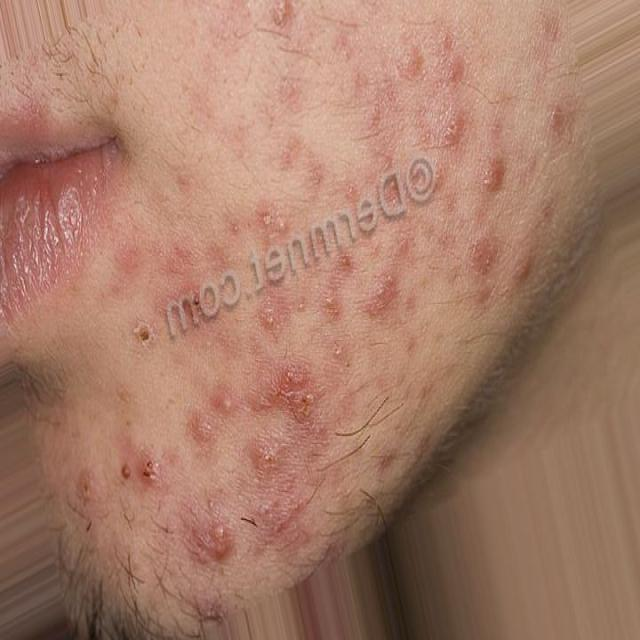Acne: (152, 180, 211, 316), (356, 84, 425, 174), (249, 187, 312, 255), (464, 218, 515, 282), (267, 378, 332, 428), (115, 439, 172, 496), (214, 363, 250, 439), (432, 28, 473, 94), (388, 27, 430, 91), (249, 282, 288, 344), (272, 122, 316, 175), (130, 316, 178, 362), (374, 267, 405, 335), (246, 446, 300, 485), (263, 5, 316, 42), (483, 153, 524, 200), (544, 104, 577, 162), (316, 275, 348, 334), (200, 519, 244, 561), (445, 100, 474, 161), (526, 10, 570, 50), (516, 229, 540, 302), (114, 245, 148, 289), (186, 402, 213, 457), (256, 498, 294, 528)
